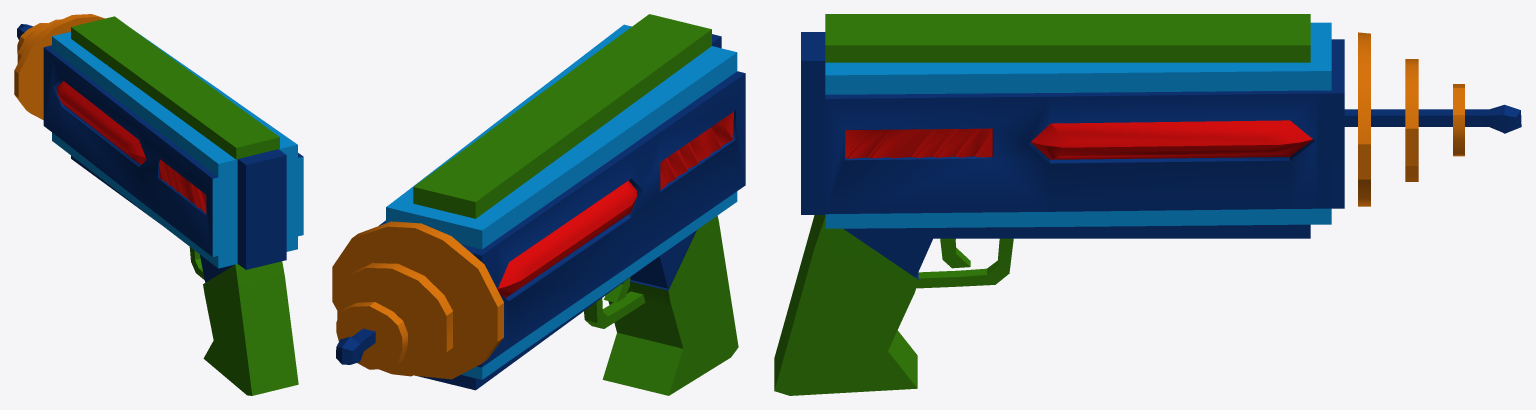
Rendered from vb_ray_gun.fbx.
3 views of the same model, side by side, from view 1: azimuth 30°, elevation 25°; view 2: azimuth 150°, elevation 25°; view 3: azimuth 270°, elevation 25° (orthographic). The views are drawn at different scales.
Parts seen in each view (by area): view 1: RayGun; view 2: RayGun; view 3: RayGun.
Part boxes in pixels (x1,y1,x2,y2): RayGun: (14, 14, 303, 395); RayGun: (332, 14, 745, 395); RayGun: (774, 14, 1521, 395).
Bounding box in the file's own units: 0.0125 × 0.0245 × 0.0475.
